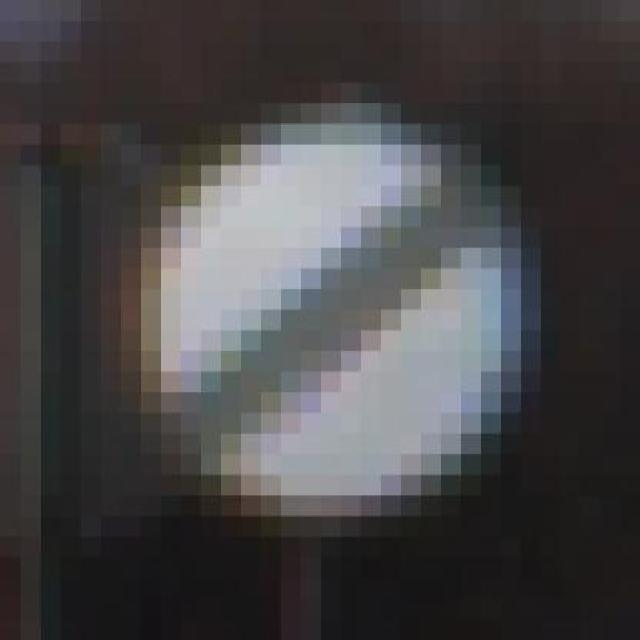End of all speed and passing limits: (100, 103, 540, 537)
